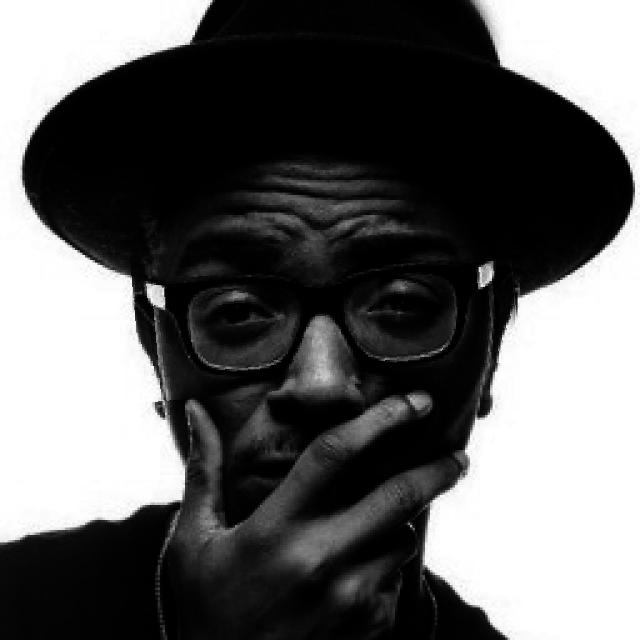glasses: (133, 231, 519, 394)
